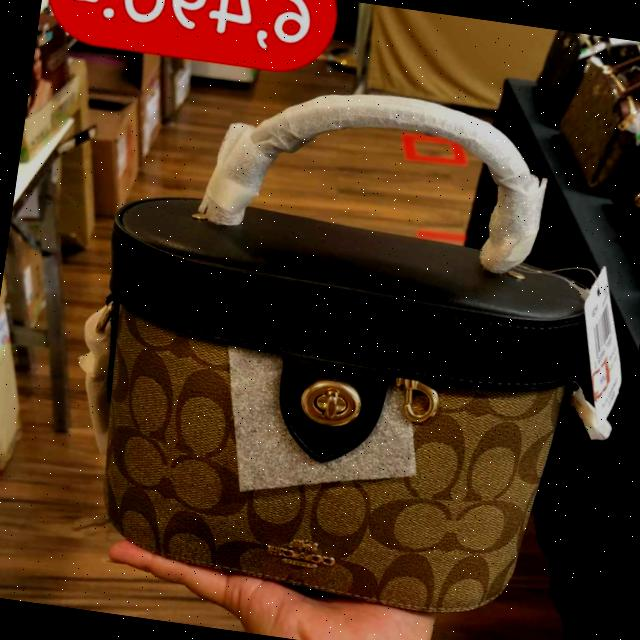Handbag: (62, 164, 608, 626)
